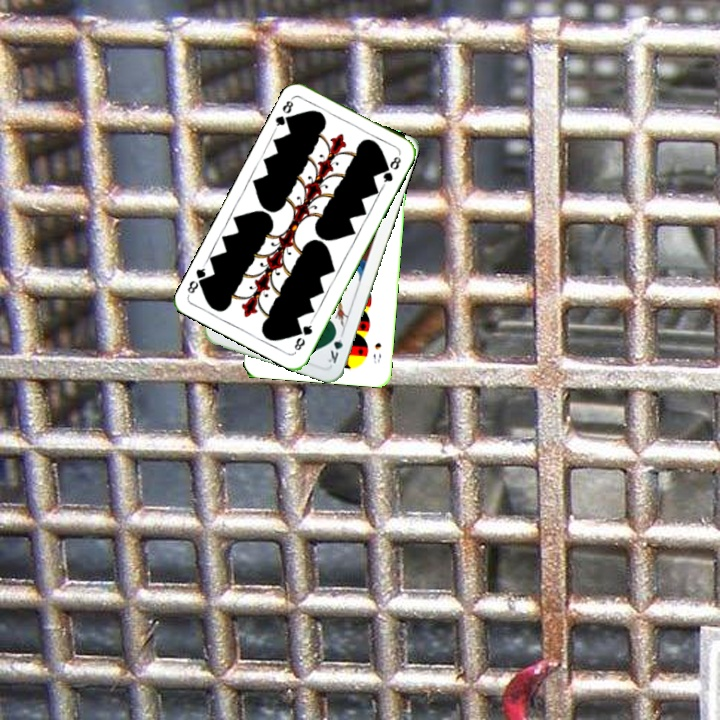G8: (290, 317, 315, 353), (271, 96, 296, 131)
GK: (324, 326, 346, 366)
S8: (369, 339, 384, 366)
